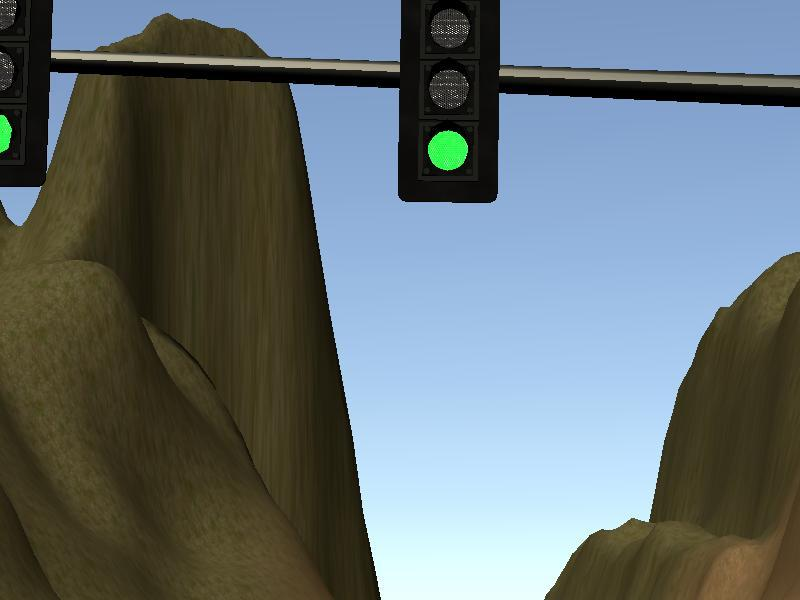Green: (398, 1, 497, 203), (1, 1, 50, 190)
